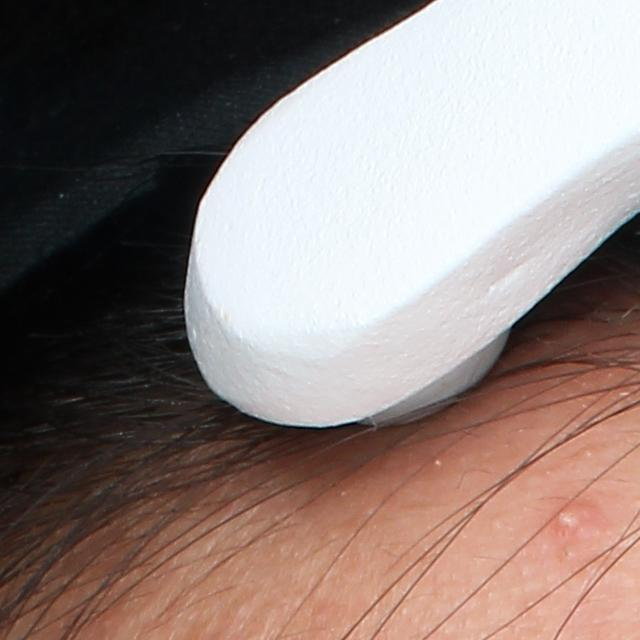pustule: (548, 497, 579, 543)
